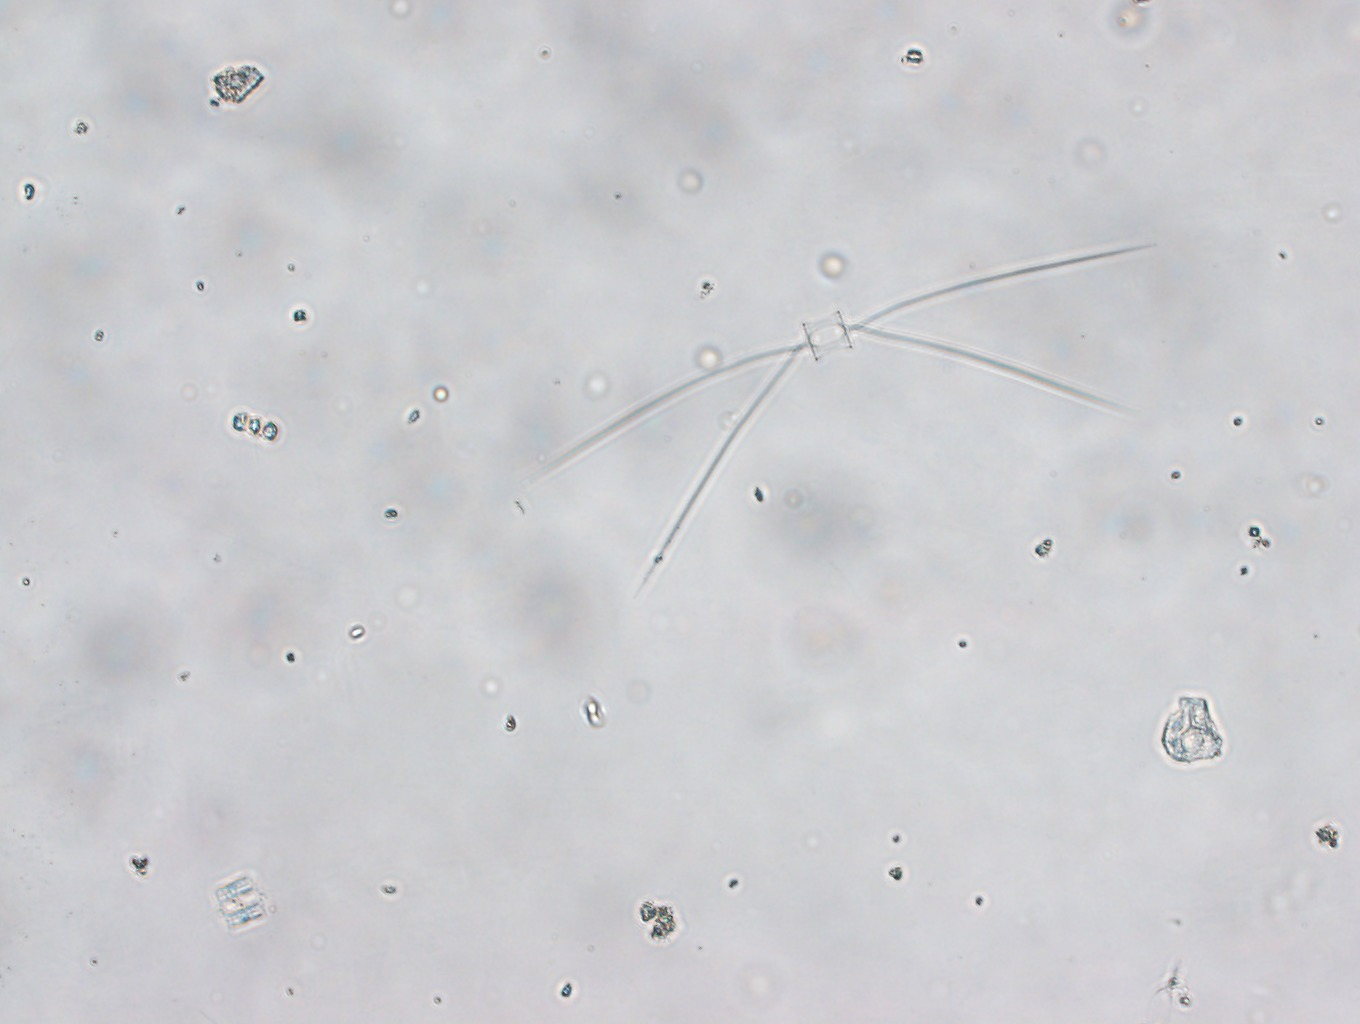chaetoceros: (536, 232, 1158, 570)
